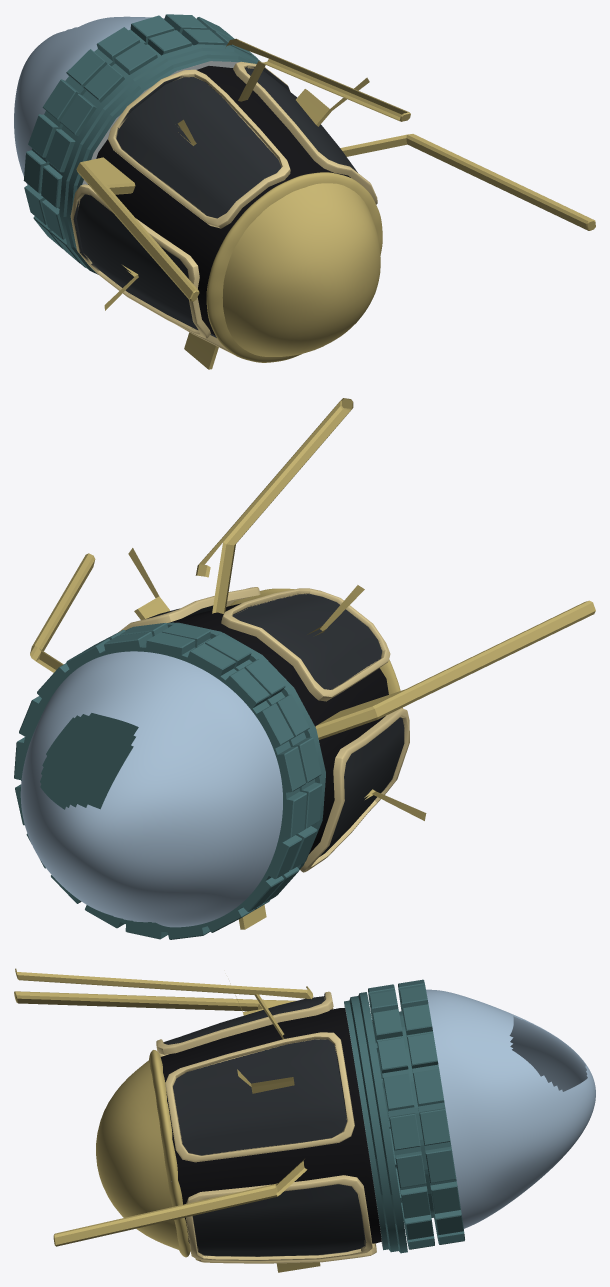
File: Time Machine 25.gltf
The picture shows the model from 3 angles, top to bottom: view 1: azimuth 30°, elevation 25°; view 2: azimuth 150°, elevation 25°; view 3: azimuth 270°, elevation 25°; orthographic projection. The views are drawn at different scales.
Parts seen in each view (by area): view 1: NAVEFIN.005; view 2: NAVEFIN.005; view 3: NAVEFIN.005.
Part boxes in pixels (box(x1,y1,x2,y2)): NAVEFIN.005: box(14, 14, 595, 369); NAVEFIN.005: box(14, 398, 595, 939); NAVEFIN.005: box(14, 968, 595, 1272).
Bounding box in the file's own units: 24.8 × 18.88 × 30.02.
5 materials, 5 textured.
